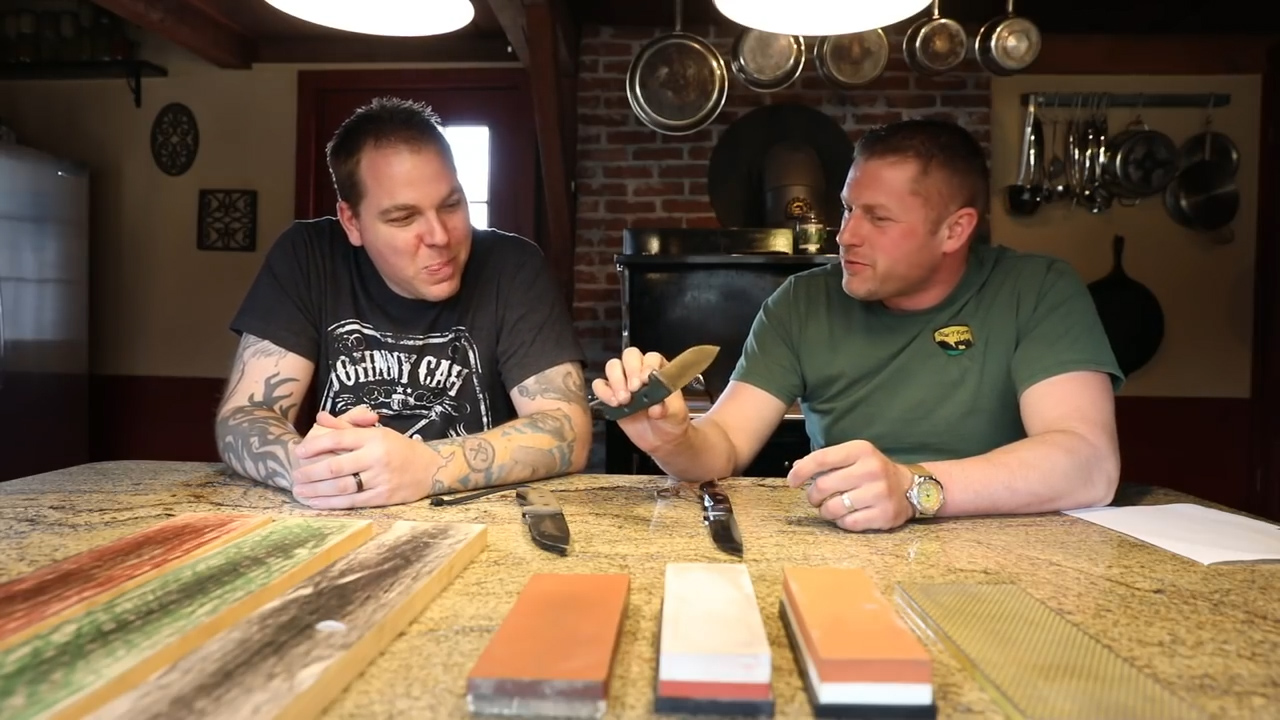knife: (600, 333, 732, 420)
